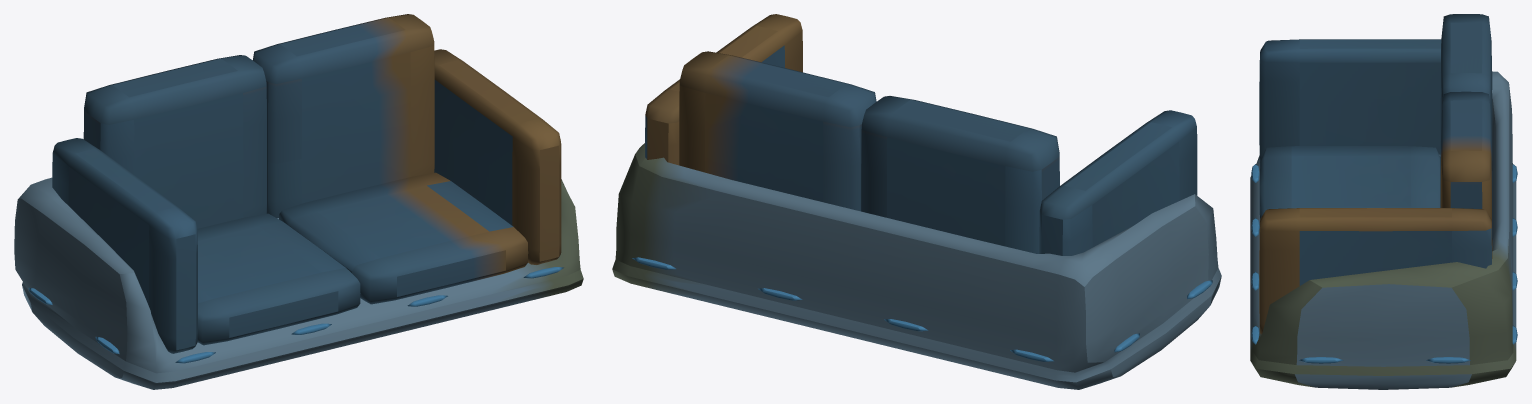
The model's file is Couch02_Blue.fbx.
The picture shows the model from 3 angles, left to right: view 1: azimuth 30°, elevation 25°; view 2: azimuth 150°, elevation 25°; view 3: azimuth 270°, elevation 25°; orthographic projection. The views are drawn at different scales.
Visible parts, largest first — view 1: Sofa_1; view 2: Sofa_1; view 3: Sofa_1.
Part boxes in pixels (box(x1,y1,x2,y2)): Sofa_1: box(14, 14, 583, 389); Sofa_1: box(612, 14, 1221, 389); Sofa_1: box(1250, 14, 1517, 389).
Bounding box in the file's own units: 177 × 77.7 × 92.75.
